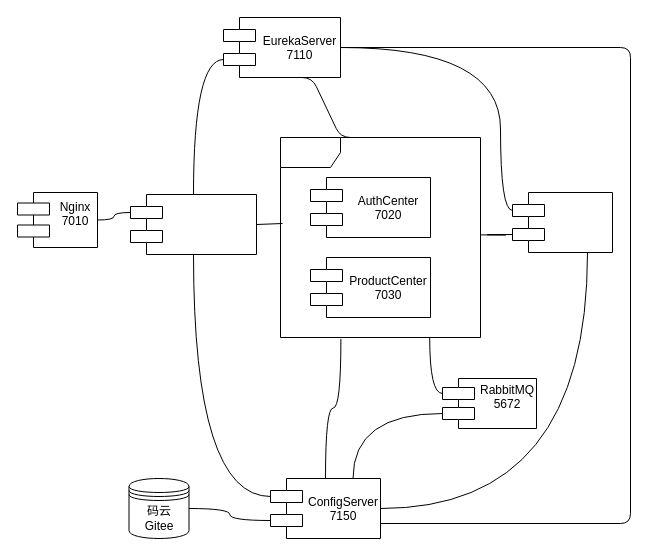
Image size: 649x556. Some labels were removed from this diagram. The box of each missing label's shape, as (x1, y1, x2, y2) in pixels:
Hystrix Dashboard 7140: (512, 192, 612, 252)
微服务: (280, 136, 480, 338)
网关 (Zuul:7120) (Gateway:7130): (130, 194, 256, 254)
